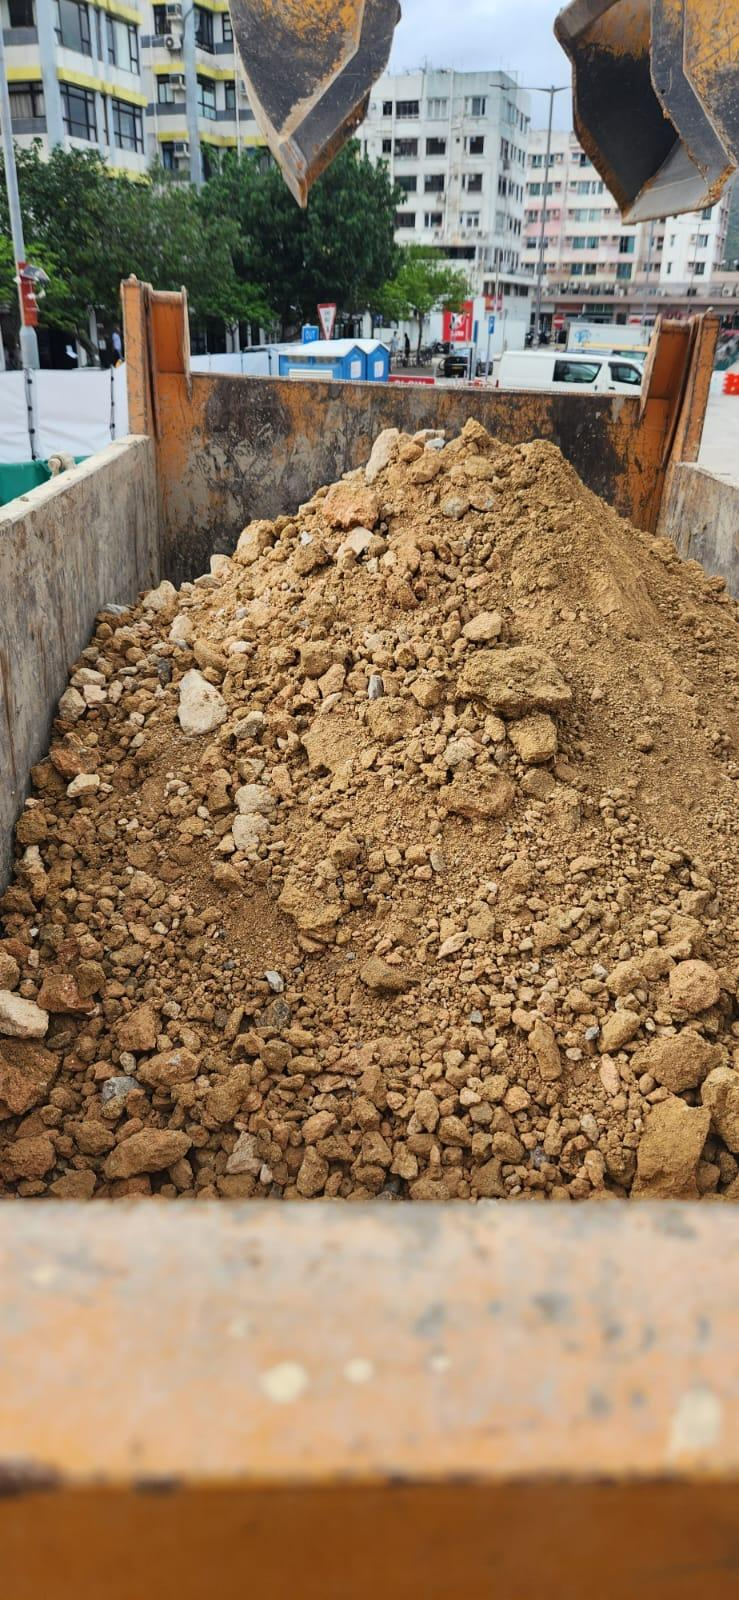dry: (0, 450, 738, 1190)
